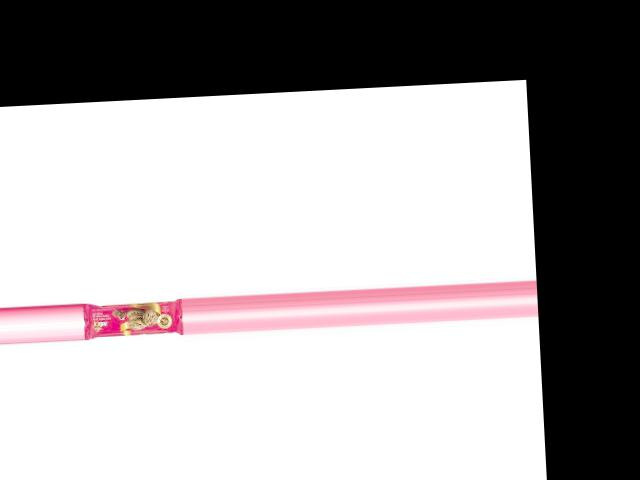chocolate: (81, 295, 181, 338)
